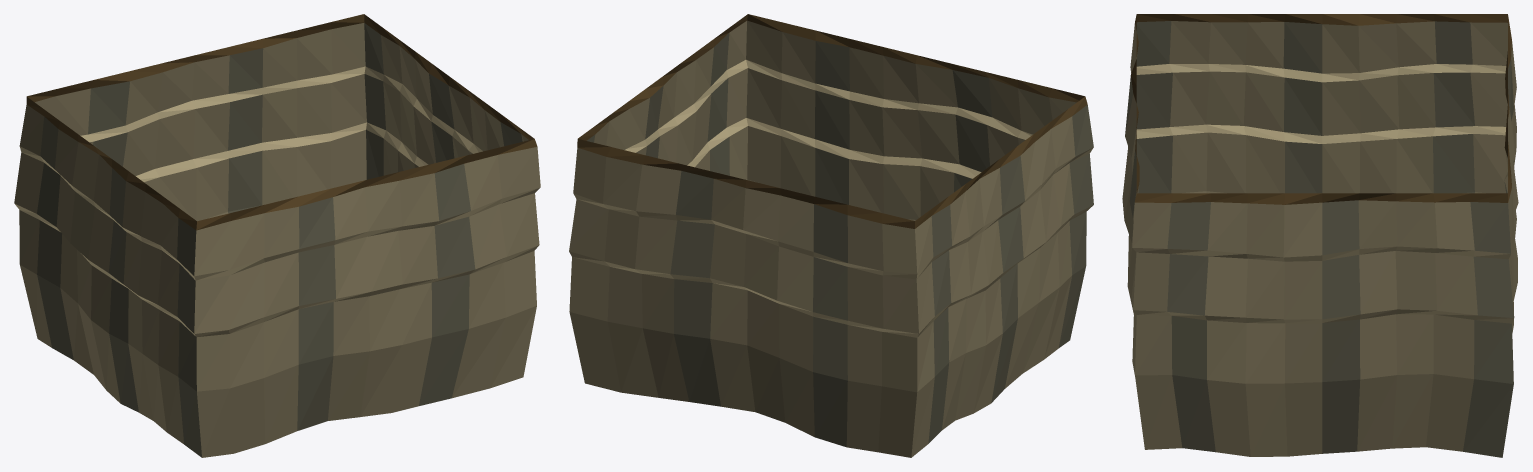
Rendered from foundation.obj.
3 renders of one model, left to right at view 1: azimuth 30°, elevation 25°; view 2: azimuth 150°, elevation 25°; view 3: azimuth 270°, elevation 25°, orthographic. The views are drawn at different scales.
Parts seen in each view (by area): view 1: foundation; view 2: foundation; view 3: foundation.
Part boxes in pixels (left/top/right/bottom): foundation: left=14, top=14, right=540, bottom=457; foundation: left=569, top=14, right=1093, bottom=457; foundation: left=1122, top=14, right=1518, bottom=457.
Bounding box in the file's own units: 33.8 × 22.38 × 29.87.
